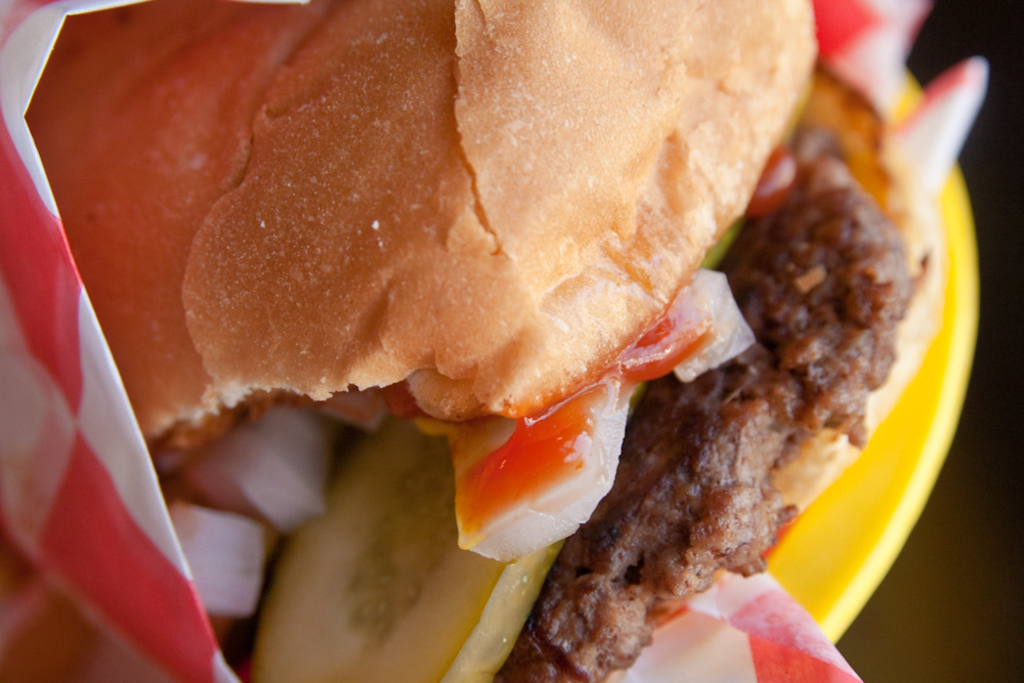Hamburger: (24, 0, 940, 681)
